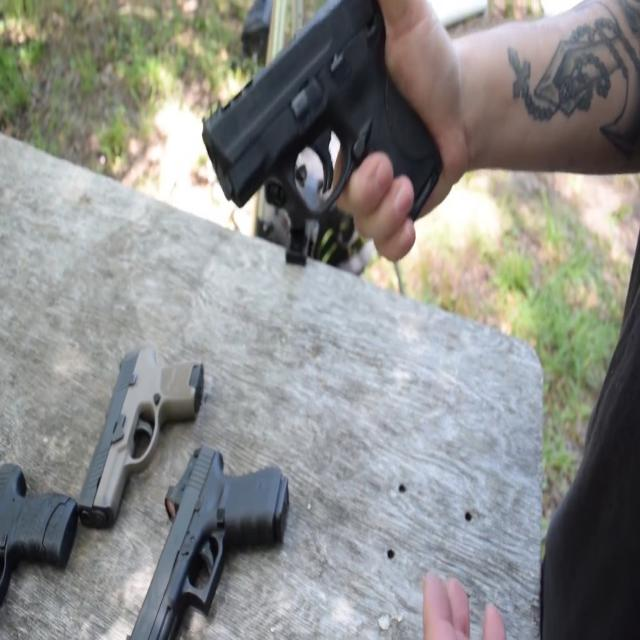handgun: (200, 0, 450, 283), (114, 450, 297, 640), (76, 328, 212, 533)
